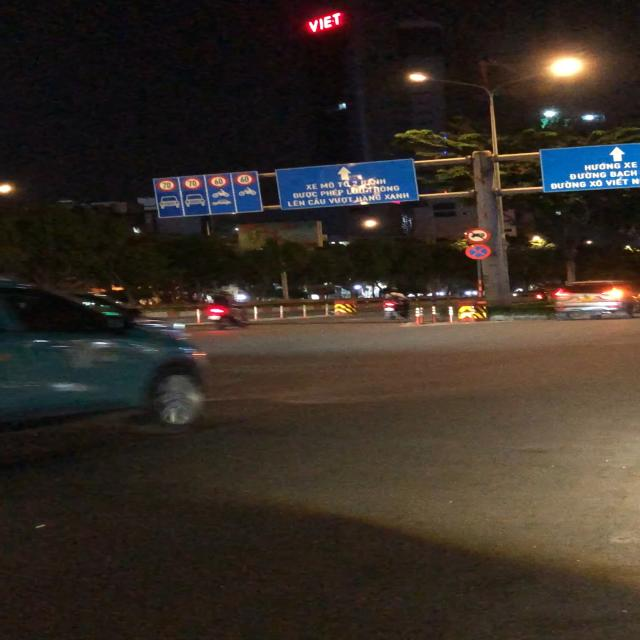Bien bao cam dung xe va do xe: (462, 244, 495, 262)
Bien bao cam xe oto tai: (463, 226, 491, 243)
Bien bao toc do toi da cho phep: (154, 177, 178, 192), (181, 176, 202, 190), (234, 174, 258, 186), (208, 175, 230, 188)
